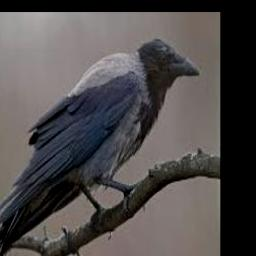Crow: (0, 37, 200, 256)
